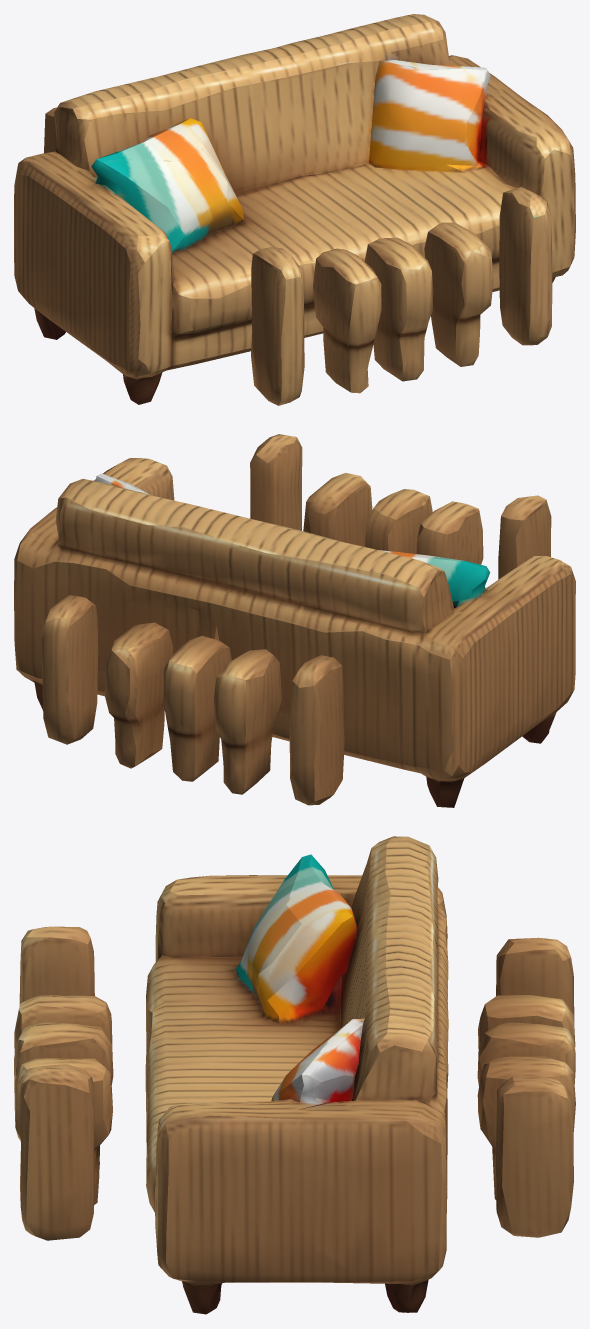
The model's file is sofa.glb.
The picture shows the model from 3 angles, top to bottom: view 1: azimuth 30°, elevation 25°; view 2: azimuth 150°, elevation 25°; view 3: azimuth 270°, elevation 25°; orthographic projection. The views are drawn at different scales.
Visible parts, largest first — view 1: geometry_0; view 2: geometry_0; view 3: geometry_0.
Part boxes in pixels (x1,y1,x2,y2): geometry_0: (14,14,575,405); geometry_0: (14,434,575,807); geometry_0: (14,836,575,1314).
Bounding box in the file's own units: 1 × 0.5001 × 0.945.
1 material, 1 textured.
